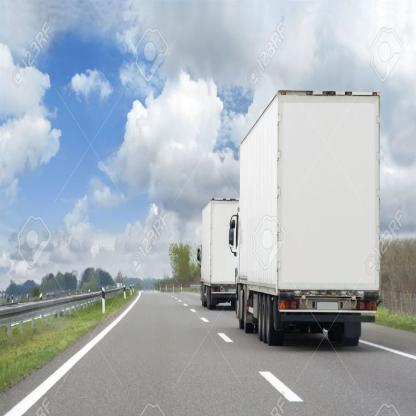normal-truck: (232, 81, 408, 379)
